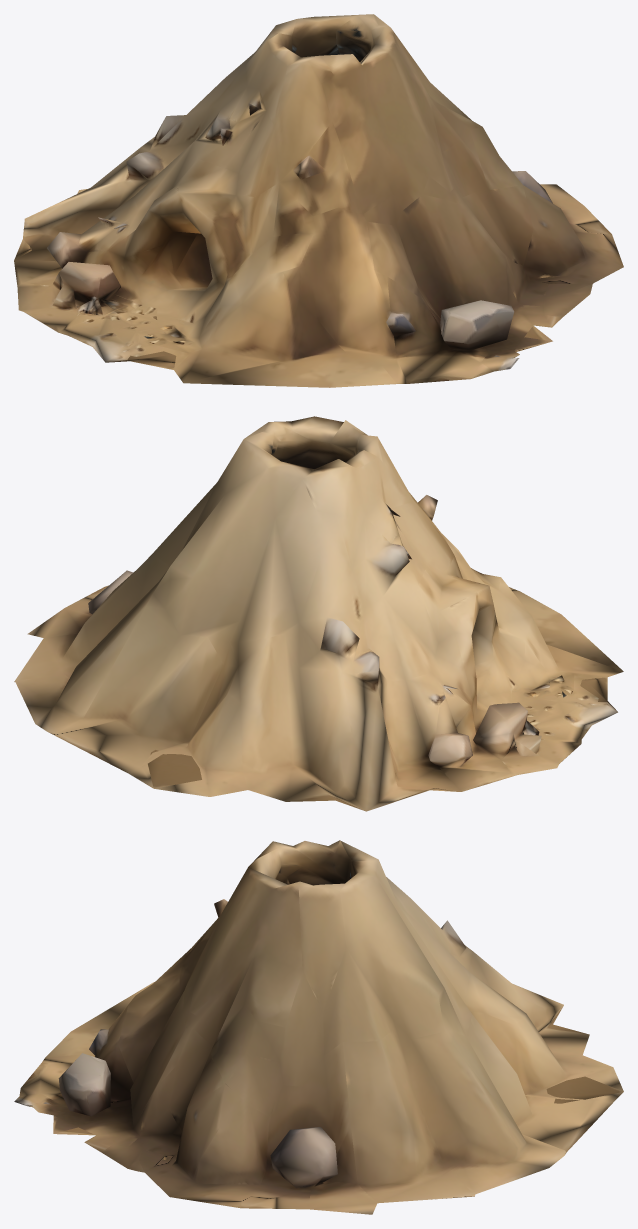
File: AntHill_lod.glb
3 renders of one model, top to bottom at view 1: azimuth 30°, elevation 25°; view 2: azimuth 150°, elevation 25°; view 3: azimuth 270°, elevation 25°, orthographic.
Parts seen in each view (by area): view 1: anthill; view 2: anthill; view 3: anthill.
Boxes of the visible parts, x1,y1,x2,y2 form: anthill: [14, 14, 623, 387]; anthill: [14, 416, 623, 811]; anthill: [14, 840, 623, 1214].
Bounding box in the file's own units: 0.9719 × 0.4135 × 0.9759.
Materials: 1 (1 with a texture image).
